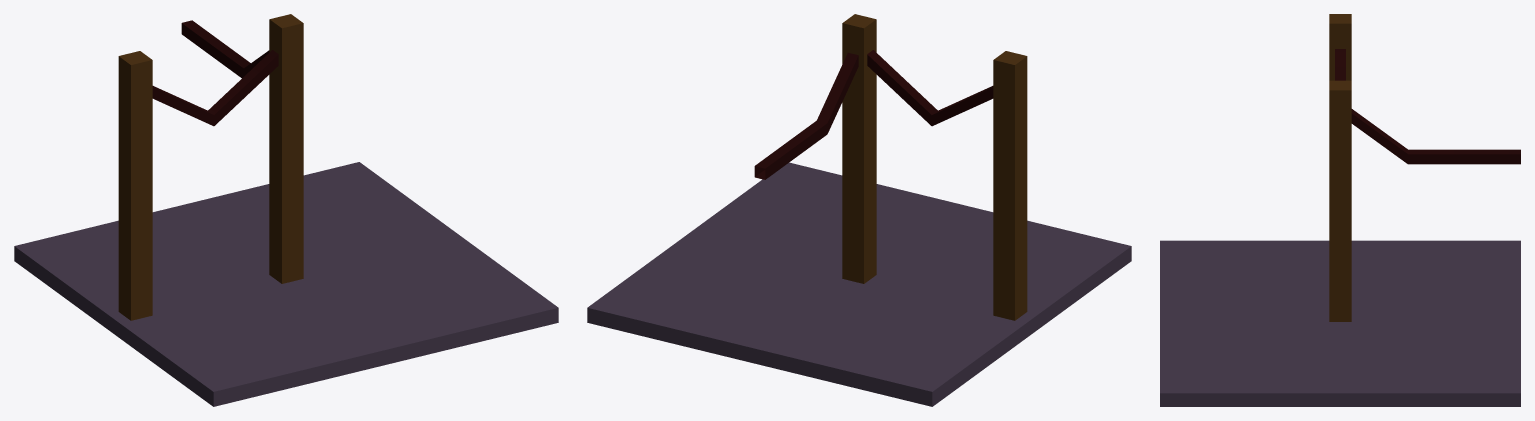
Rendered from decoration_redRope3.dae.
3 renders of one model, left to right at view 1: azimuth 30°, elevation 25°; view 2: azimuth 150°, elevation 25°; view 3: azimuth 270°, elevation 25°, orthographic. The views are drawn at different scales.
Parts seen in each view (by area): view 1: decoration_redRope3_MSH; view 2: decoration_redRope3_MSH; view 3: decoration_redRope3_MSH.
Part boxes in pixels (x1=…): decoration_redRope3_MSH: x1=14, y1=14, x2=558, y2=406; decoration_redRope3_MSH: x1=587, y1=14, x2=1131, y2=406; decoration_redRope3_MSH: x1=1160, y1=14, x2=1520, y2=406.
Size of the model in its own units: 1 by 0.75 by 1.
